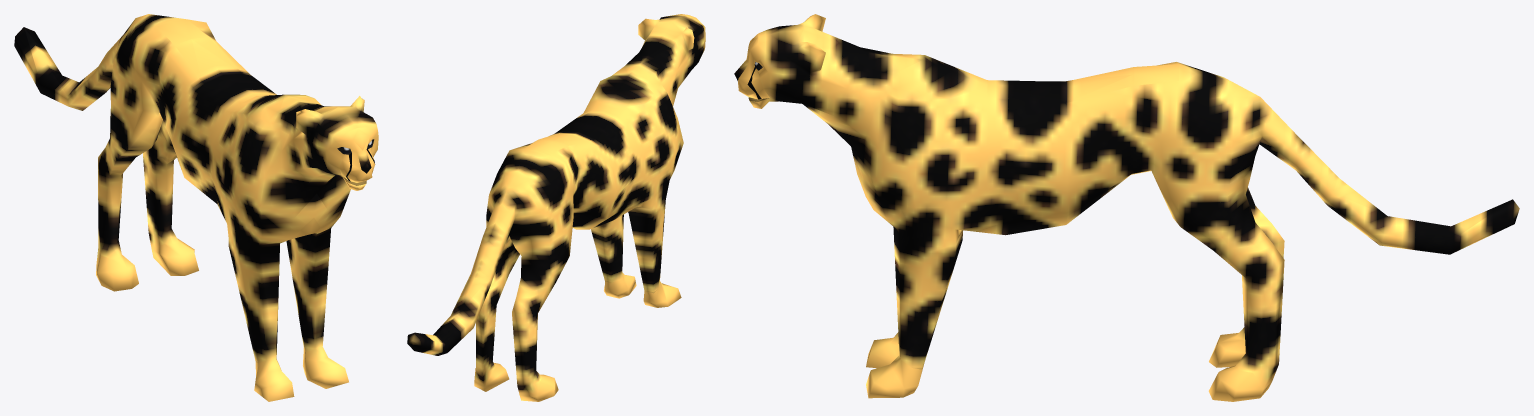
Rendered from Cheetah02.glb.
The picture shows the model from 3 angles, left to right: view 1: azimuth 30°, elevation 25°; view 2: azimuth 150°, elevation 25°; view 3: azimuth 270°, elevation 25°; orthographic projection. The views are drawn at different scales.
Visible parts, largest first — view 1: Cheetah02; view 2: Cheetah02; view 3: Cheetah02.
Boxes of the visible parts, box(x1,y1,x2,y2) form: Cheetah02: box(14, 14, 378, 401); Cheetah02: box(407, 14, 705, 401); Cheetah02: box(734, 14, 1519, 401).
Size of what is drawn, in the model's own units: 0.4075 by 1.12 by 2.3.
Materials: 1 (1 with a texture image).
